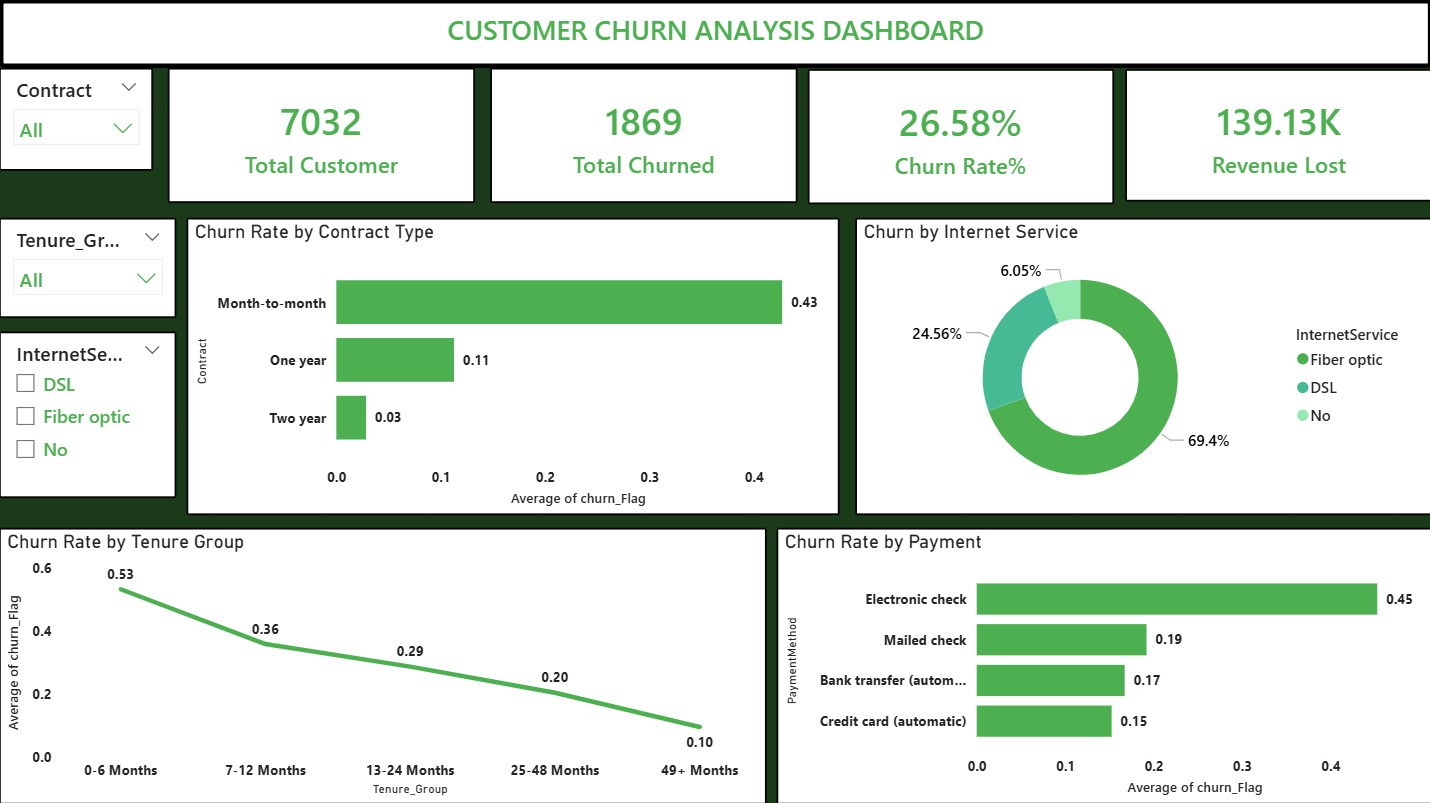

Layout of this report page (visuals, bound fields, positions):
{"tool":"powerbi","page":{"name":"Dashboard","canvas":[1280,720],"ordinal":0},"visuals":[{"type":"card","fields":{"Values":["churn_project churn_raw.Total Customer"]},"box":[150.2,61.5,274.5,120.6],"z":0},{"type":"card","fields":{"Values":["churn_project churn_raw.Total Churned"]},"box":[438.2,61.5,274.5,120.6],"z":1000},{"type":"card","fields":{"Values":["churn_project churn_raw.Churn Rate%"]},"box":[722.5,62.8,273.2,120.6],"z":2000},{"type":"card","fields":{"Values":["churn_project churn_raw.Revenue Lost"]},"box":[1005.5,62.8,274.5,118.2],"z":3000},{"type":"textbox","box":[0,0,1280,61.2],"z":4000},{"type":"slicer","fields":{"Values":["churn_project churn_raw.Contract"]},"box":[0,61.5,137.8,92.3],"z":5000},{"type":"slicer","fields":{"Values":["churn_project churn_raw.Tenure_Group"]},"box":[0,195.7,158.8,89.8],"z":6000},{"type":"slicer","fields":{"Values":["churn_project churn_raw.InternetService"]},"box":[0,296.6,158.8,148.9],"z":7000},{"type":"clusteredBarChart","title":"Churn Rate by Contract Type","fields":{"Category":["churn_project churn_raw.Contract"],"Y":["Avg(churn_project churn_raw.churn_Flag)"]},"box":[167.4,195.7,583.4,265.8],"z":8000},{"type":"donutChart","title":"Churn by Internet Service","fields":{"Category":["churn_project churn_raw.InternetService"],"Y":["Sum(churn_project churn_raw.churn_Flag)"]},"box":[764.3,195.7,515.7,265.8],"z":9000},{"type":"lineChart","title":"Churn Rate by Tenure Group","fields":{"Category":["churn_project churn_raw.Tenure_Group"],"Y":["Avg(churn_project churn_raw.churn_Flag)"]},"box":[0,472.6,685.5,247.4],"z":10000},{"type":"clusteredBarChart","title":"Churn Rate by Payment","fields":{"Category":["churn_project churn_raw.PaymentMethod"],"Y":["Avg(churn_project churn_raw.churn_Flag)"]},"box":[694.2,472.6,585.8,247.4],"z":11000}]}

Visuals, with their boxes in screenshot pixels (x1, y1, x2, y2), scaled from the page's 1280x720 canvas onto the 1430x803 screenshot:
card - churn_project churn_raw.Total Customer: l=168, t=69, r=474, b=203
card - churn_project churn_raw.Total Churned: l=490, t=69, r=796, b=203
card - churn_project churn_raw.Churn Rate%: l=807, t=70, r=1112, b=205
card - churn_project churn_raw.Revenue Lost: l=1123, t=70, r=1429, b=202
textbox: l=0, t=0, r=1429, b=68
slicer - churn_project churn_raw.Contract: l=0, t=69, r=154, b=172
slicer - churn_project churn_raw.Tenure_Group: l=0, t=218, r=177, b=318
slicer - churn_project churn_raw.InternetService: l=0, t=331, r=177, b=497
"Churn Rate by Contract Type" clusteredBarChart: l=187, t=218, r=839, b=515
"Churn by Internet Service" donutChart: l=854, t=218, r=1429, b=515
"Churn Rate by Tenure Group" lineChart: l=0, t=527, r=766, b=802
"Churn Rate by Payment" clusteredBarChart: l=776, t=527, r=1429, b=802
